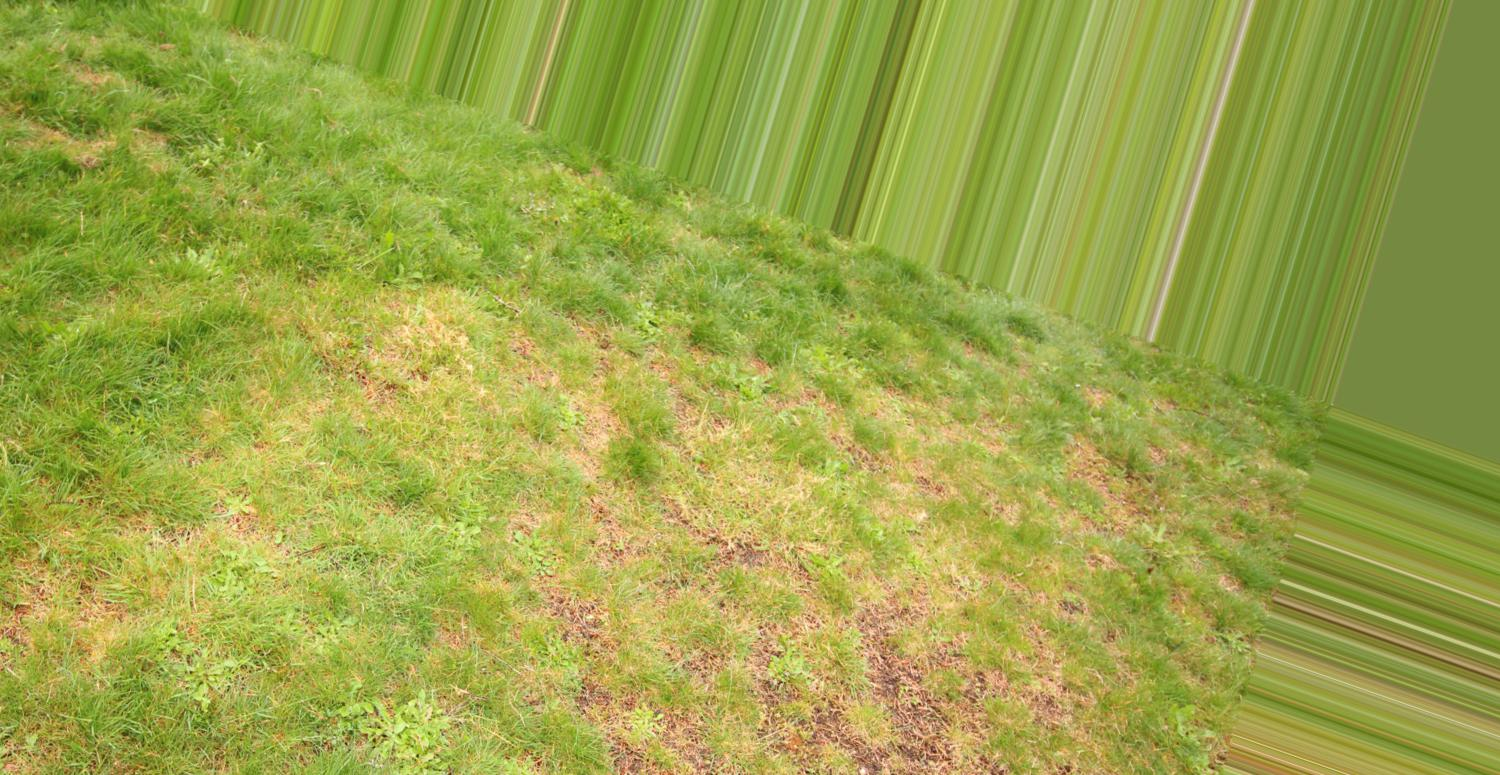patch: (712, 357, 1098, 640), (577, 519, 859, 719), (361, 285, 551, 506), (159, 520, 296, 613)
